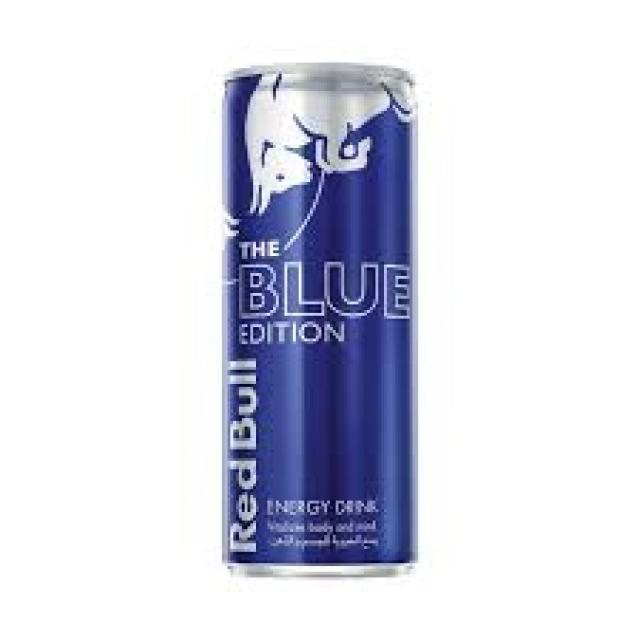red-bull: (220, 58, 418, 569)
